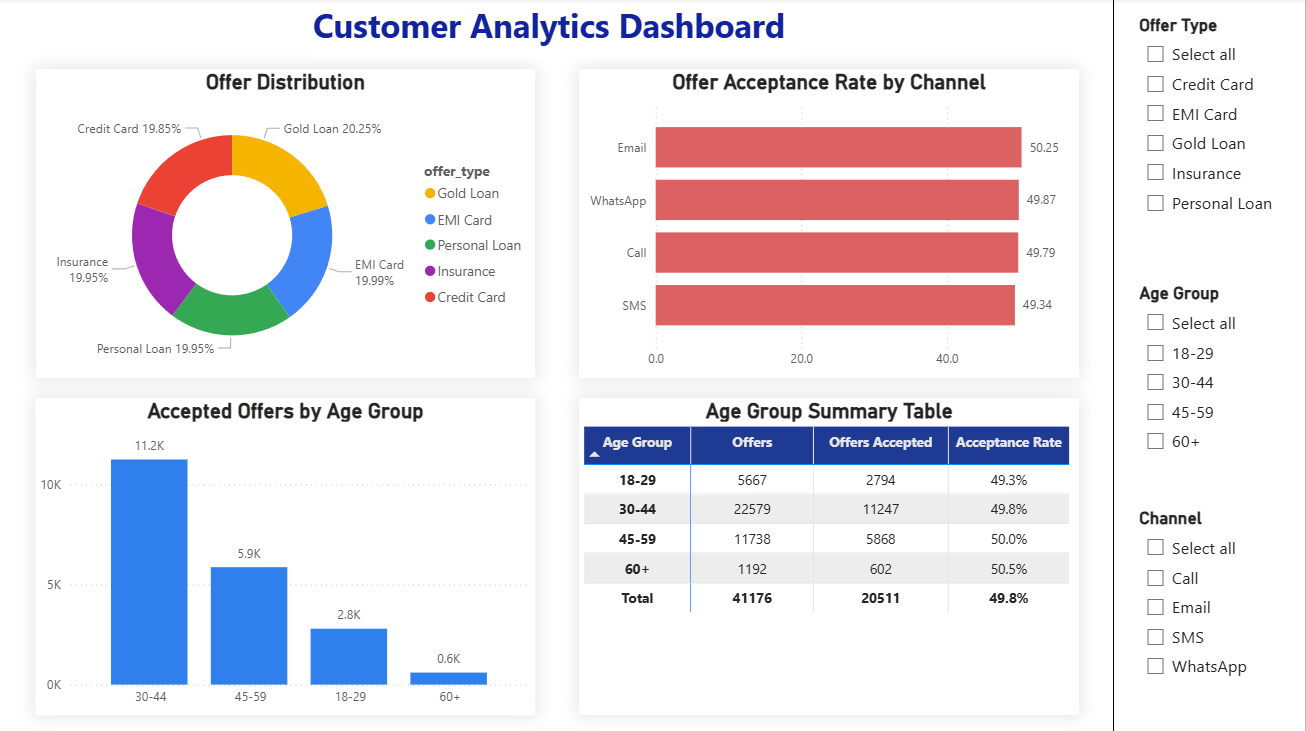

The dashboard page shown, as its layout file describes it:
{"tool":"powerbi","page":{"name":"Customer Insights","canvas":[1280,720],"ordinal":1},"visuals":[{"type":"shape","box":[1090.5,0,189.5,720],"z":0},{"type":"donutChart","title":"Offer Distribution","fields":{"Category":["Offer_Summary.offer_type"],"Y":["Sum(Offer_Summary.Offers_Sent)"]},"box":[36.3,69.8,489.1,302],"z":1000},{"type":"clusteredColumnChart","title":"Accepted Offers by Age Group","fields":{"Category":["Age_Summary.Age_Group"],"Y":["Sum(Age_Summary.Accepted)"]},"box":[36.3,391,489.1,310.6],"z":2000},{"type":"clusteredBarChart","title":"Offer Acceptance Rate by Channel","fields":{"Category":["Channel_Summary.channel"],"Y":["Sum(Channel_Summary.Acceptance_Rate)"]},"box":[569,69.8,489.1,302],"z":3000},{"type":"pivotTable","title":"Age Group Summary Table","fields":{"Rows":["Age_Summary.Age_Group"],"Values":["Sum(Age_Summary.Offers)","Sum(Age_Summary.Accepted)","Age_Summary.Acceptance Rate"]},"box":[569,391,489.1,310.6],"z":4000},{"type":"textbox","box":[303.3,0,481.8,57.5],"z":5000},{"type":"slicer","title":"Offer Type","fields":{"Values":["Offer_Summary.offer_type"]},"box":[1111.9,15.9,149.2,218.9],"z":6000},{"type":"slicer","title":"Age Group","fields":{"Values":["Age_Summary.Age_Group"]},"box":[1111.9,278.2,149.2,177.3],"z":7000},{"type":"slicer","title":"Channel","fields":{"Values":["Channel_Summary.channel"]},"box":[1111.9,498.9,149.2,194.4],"z":8000}]}

Visuals, with their boxes in screenshot pixels (x1, y1, x2, y2), scaled from the page's 1280x720 canvas onto the 1306x731 screenshot:
shape: select_region(1113, 0, 1305, 730)
"Offer Distribution" donutChart: select_region(37, 71, 536, 377)
"Accepted Offers by Age Group" clusteredColumnChart: select_region(37, 397, 536, 712)
"Offer Acceptance Rate by Channel" clusteredBarChart: select_region(581, 71, 1080, 377)
"Age Group Summary Table" pivotTable: select_region(581, 397, 1080, 712)
textbox: select_region(309, 0, 801, 58)
"Offer Type" slicer: select_region(1134, 16, 1287, 238)
"Age Group" slicer: select_region(1134, 282, 1287, 462)
"Channel" slicer: select_region(1134, 507, 1287, 704)
